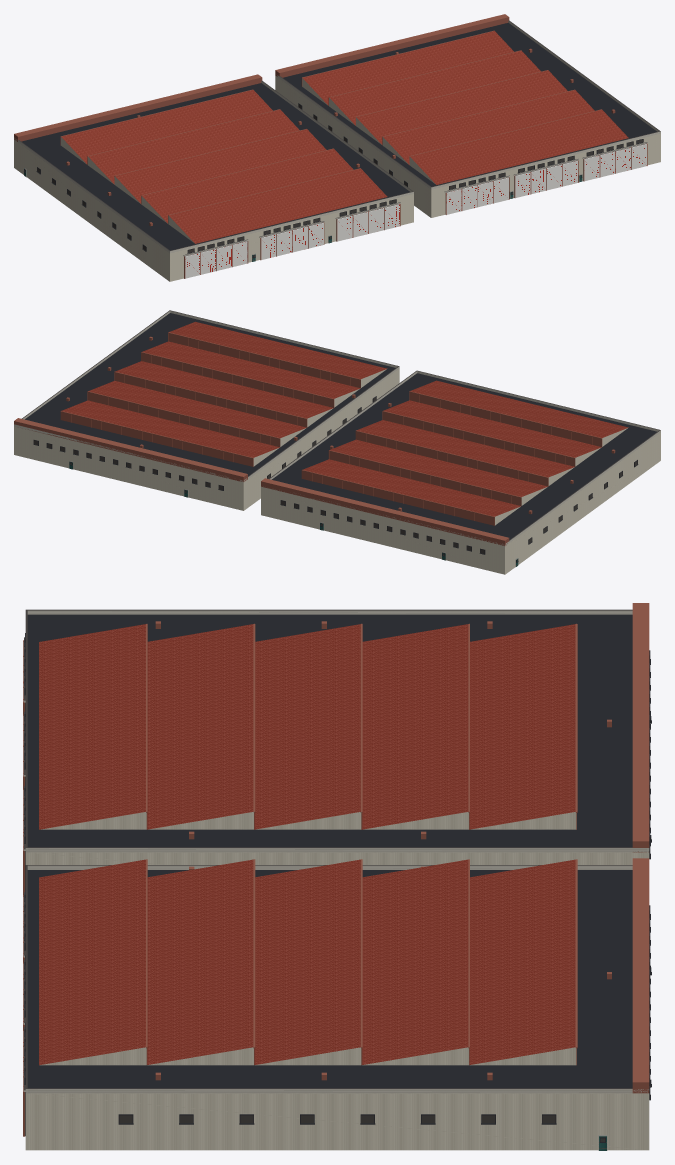
The model's file is cyxd_north_main.gltf.
3 views of the same model, one above another, from view 1: azimuth 30°, elevation 25°; view 2: azimuth 150°, elevation 25°; view 3: azimuth 270°, elevation 25° (orthographic). The views are drawn at different scales.
Visible parts, largest first — view 1: cyxd_north_main; view 2: cyxd_north_main; view 3: cyxd_north_main.
Boxes of the visible parts, box(x1,y1,x2,y2) form: cyxd_north_main: box(14, 14, 660, 281); cyxd_north_main: box(14, 310, 660, 574); cyxd_north_main: box(23, 603, 651, 1150).
Size of the model in its own units: 172 by 12.5 by 94.82.
